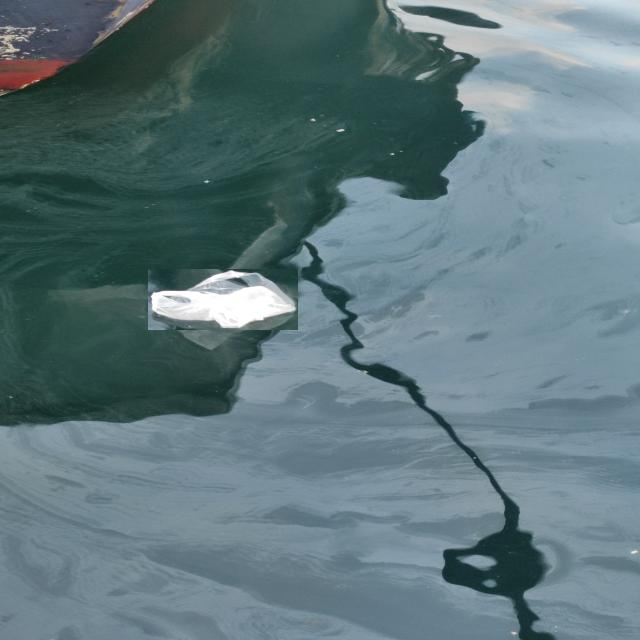Plastic bag: (148, 269, 298, 330)
